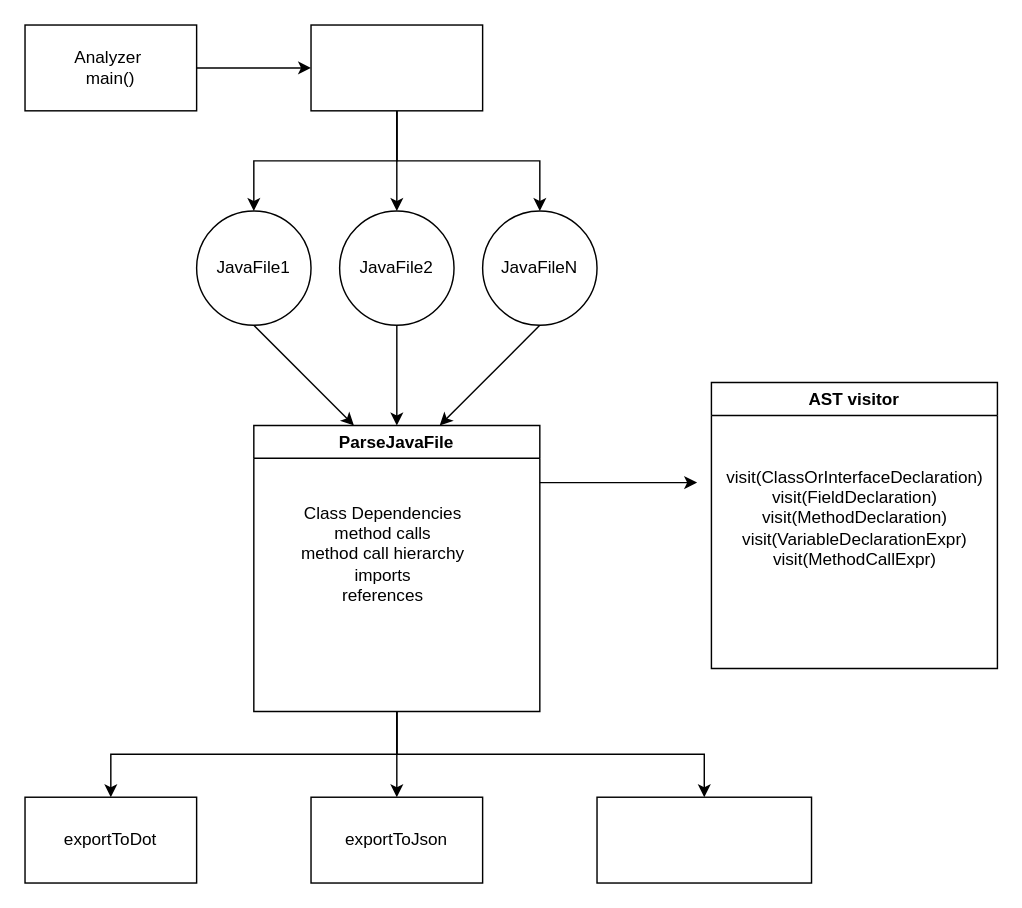
This 1022x908 diagram has some shape labels left out. Here are the shapes that lost their labels. From the top down, the centre of each, then its label:
At [396,67]: "CollectJavaFiles".
At [704,839]: "writeSummaryReport".
